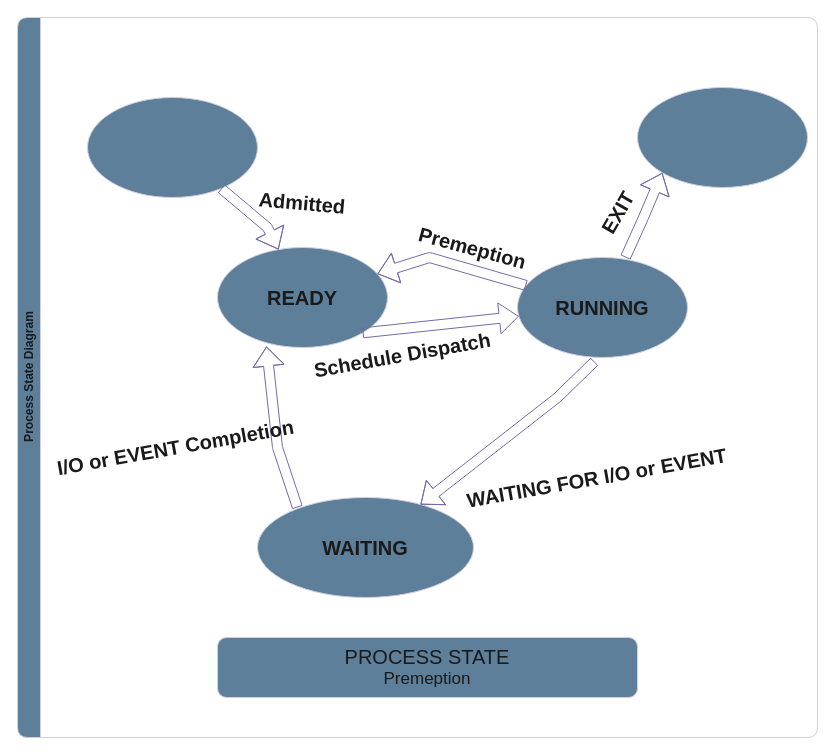
The diagram is 835 pixels wide and 755 high, and some of its shapes have lost their labels. Each missing label, with the centre of its shape:
"NEW" belongs at point 172,147.
"TERMINATED" belongs at point 722,137.
